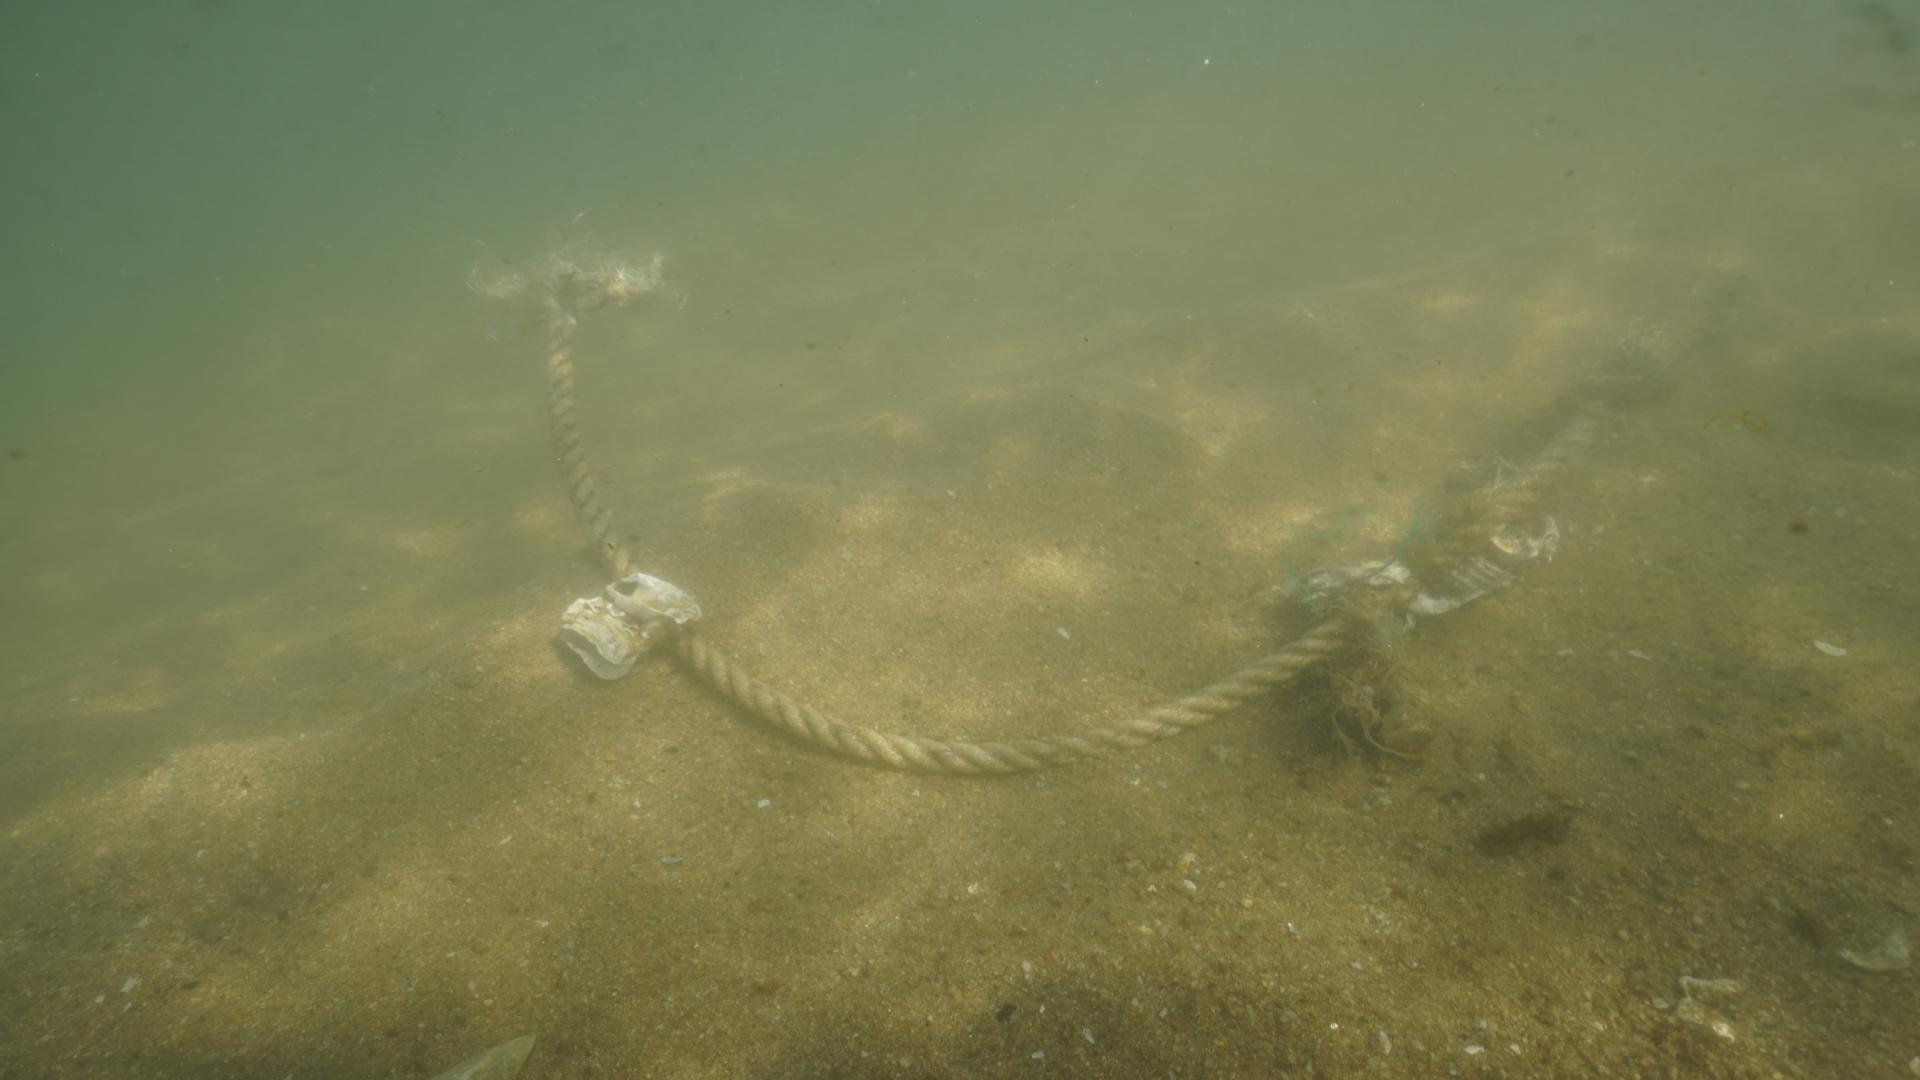rope: (541, 309, 1716, 781)
